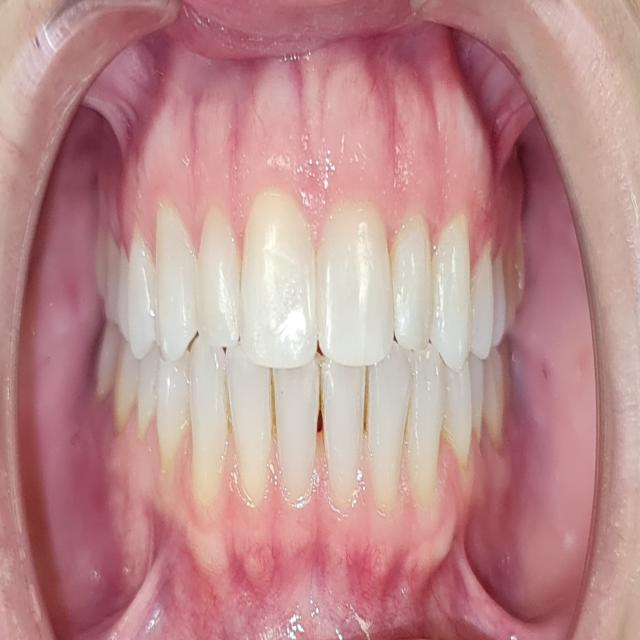tooth: (230, 187, 324, 395), (308, 181, 399, 373), (406, 366, 459, 526), (367, 370, 419, 520), (227, 349, 275, 498), (324, 364, 368, 519), (132, 352, 198, 451), (275, 365, 318, 510), (153, 211, 197, 351), (385, 235, 438, 348), (433, 246, 478, 364), (198, 212, 236, 343), (197, 346, 235, 463), (128, 221, 158, 349), (116, 241, 133, 328)
